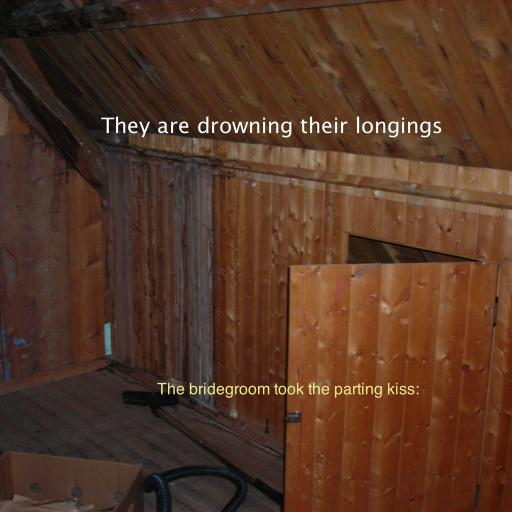Impact: (157, 382, 419, 398)
Lucida Grande: (101, 116, 443, 138)
